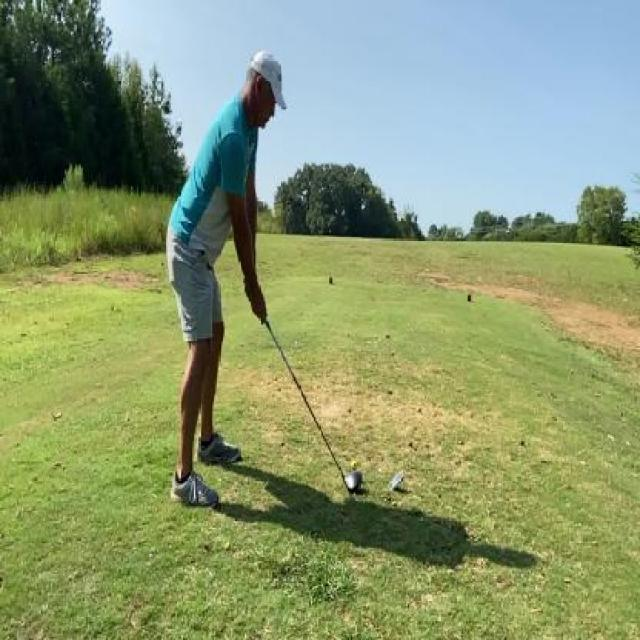club head: (340, 469, 363, 494)
